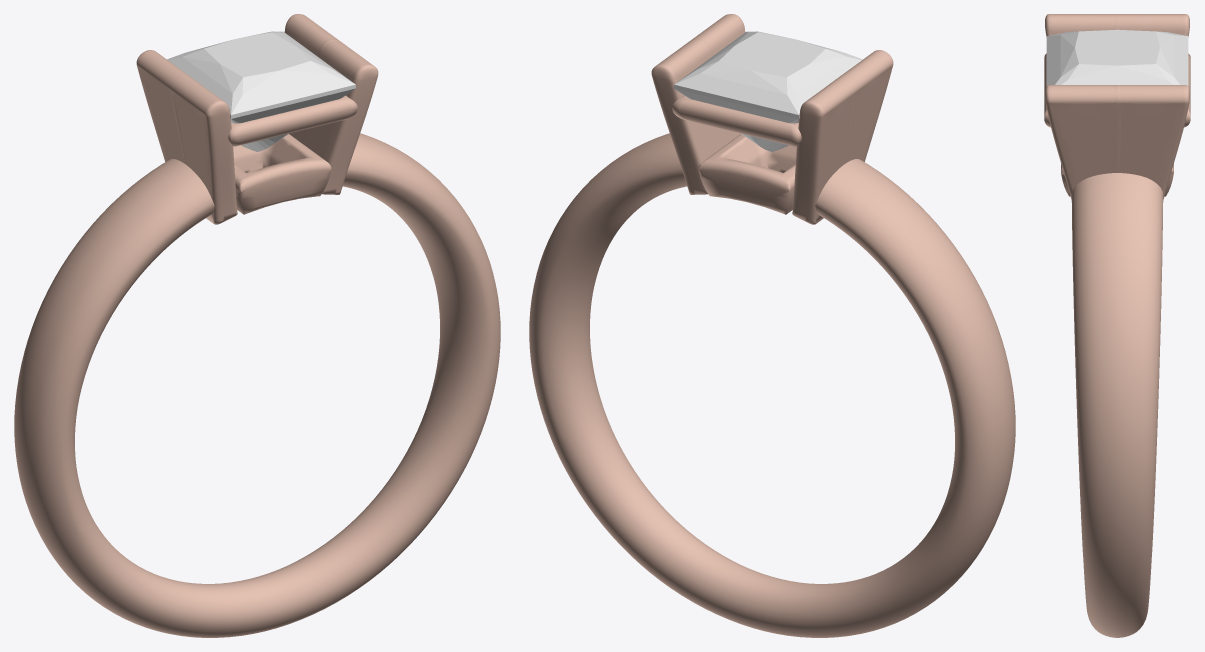
Rendered from diamond-princess-rosegold-halfmoonbezel-taperedband-solitaire.glb.
3 renders of one model, left to right at view 1: azimuth 30°, elevation 25°; view 2: azimuth 150°, elevation 25°; view 3: azimuth 270°, elevation 25°, orthographic.
Visible parts, largest first — view 1: metal, stone; view 2: metal, stone; view 3: metal, stone.
Part boxes in pixels (x1,y1,x2,y2): metal: (14, 14, 500, 637); stone: (167, 31, 355, 151); metal: (529, 14, 1015, 637); stone: (674, 31, 862, 151); metal: (1044, 14, 1190, 637); stone: (1046, 29, 1188, 85).
Bounding box in the file's own units: 20.5 × 23.85 × 5.6.
